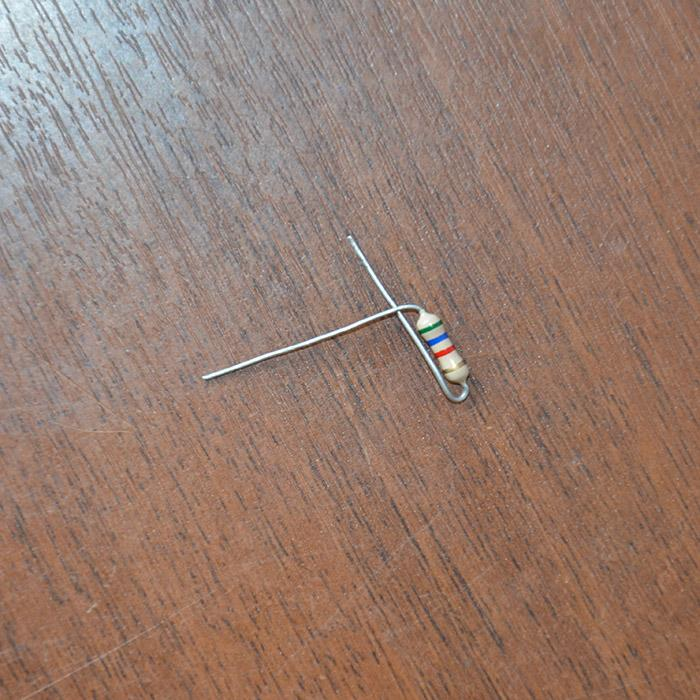resistor: (414, 309, 466, 383)
